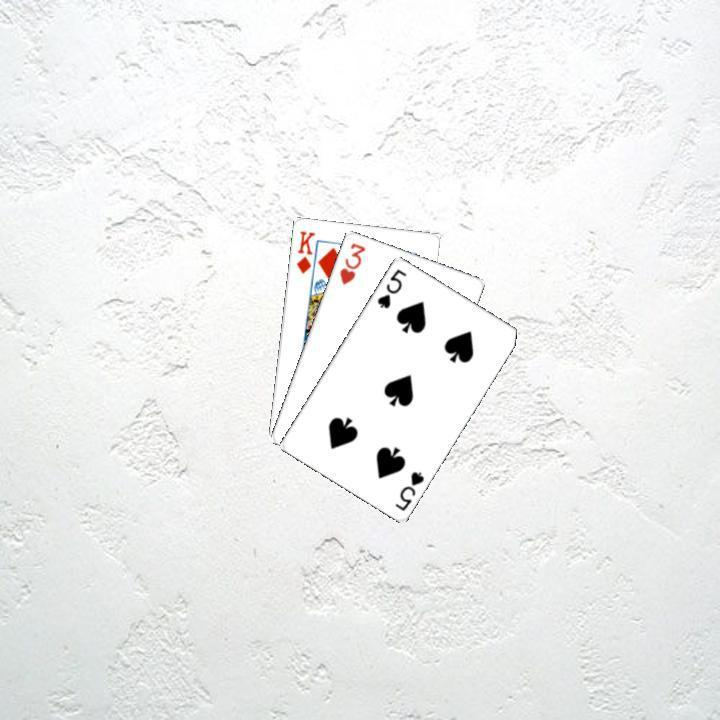3: (335, 238, 367, 286)
5: (372, 264, 408, 310), (390, 467, 426, 512)
K: (292, 226, 317, 276)
